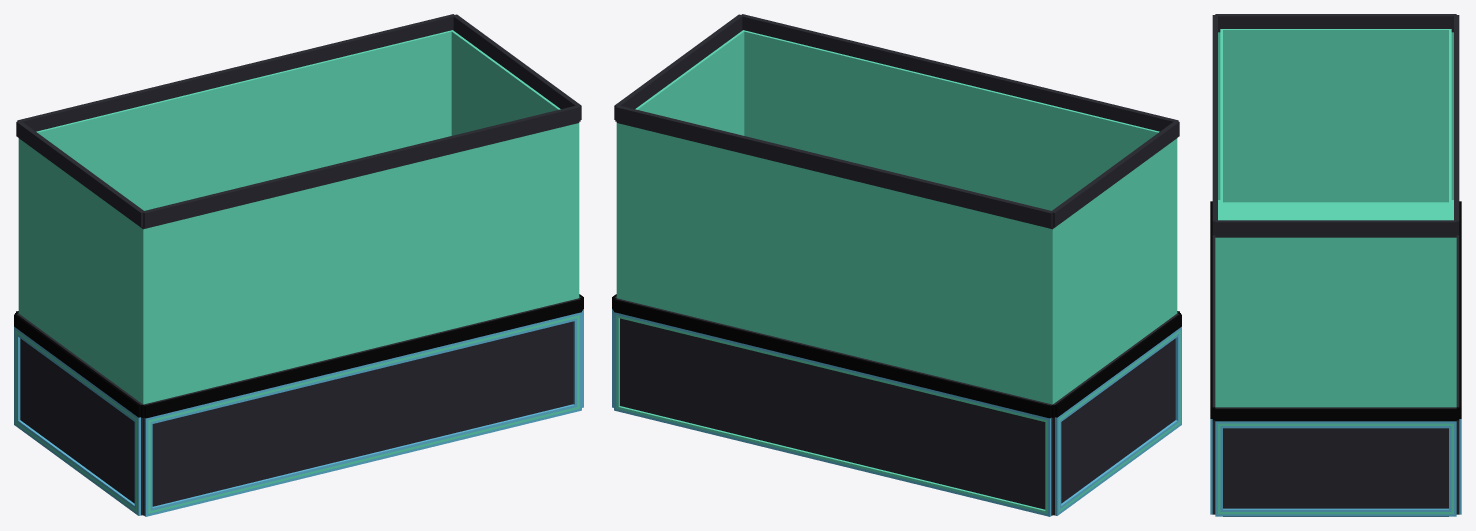
Rendered from bedroom-desk-view-television-0-aquarium.obj.
3 views of the same model, side by side, from view 1: azimuth 30°, elevation 25°; view 2: azimuth 150°, elevation 25°; view 3: azimuth 270°, elevation 25° (orthographic). The views are drawn at different scales.
Visible parts, largest first — view 1: aquarium; view 2: aquarium; view 3: aquarium.
Boxes of the visible parts, box(x1,y1,x2,y2) form: aquarium: box(14, 14, 583, 516); aquarium: box(612, 14, 1181, 516); aquarium: box(1210, 14, 1461, 516).
Size of the model in its own units: 19.4 by 12.8 by 9.8.
1 material, 1 textured.
